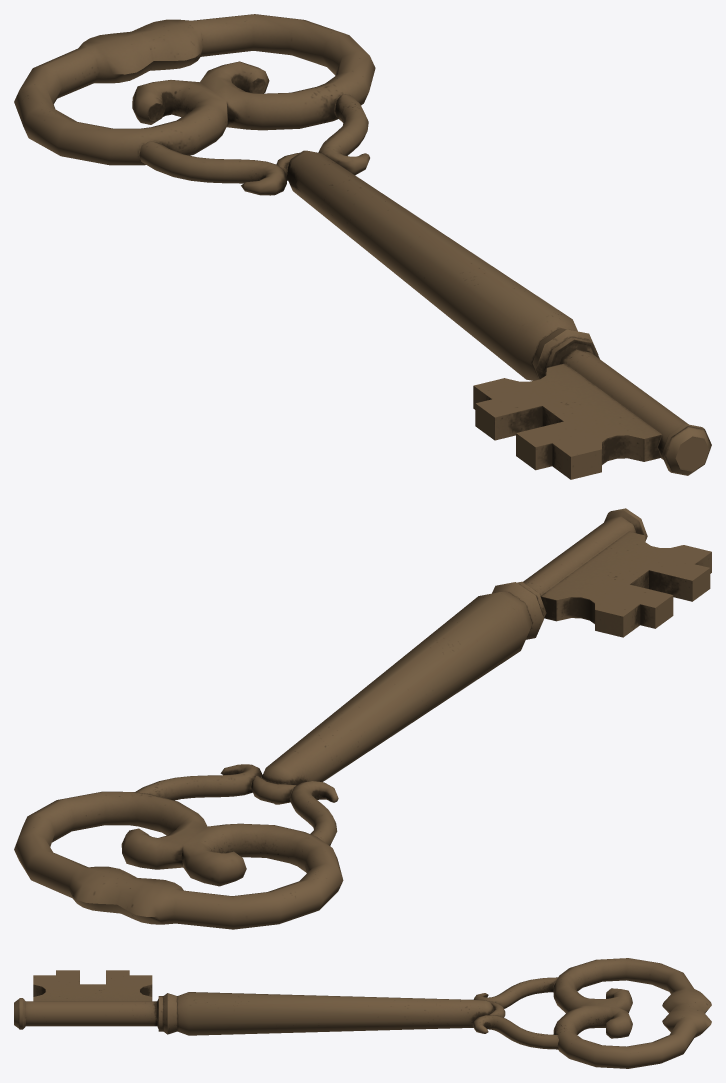
File: Key01.glb
3 renders of one model, top to bottom at view 1: azimuth 30°, elevation 25°; view 2: azimuth 150°, elevation 25°; view 3: azimuth 270°, elevation 25°, orthographic. The views are drawn at different scales.
Visible parts, largest first — view 1: Circle; view 2: Circle; view 3: Circle.
Boxes of the visible parts, left/top/right/bottom form: Circle: left=14, top=14, right=711, bottom=479; Circle: left=14, top=508, right=711, bottom=929; Circle: left=14, top=958, right=711, bottom=1068.
Bounding box in the file's own units: 0.087 × 0.0174 × 0.2602.
Materials: 1 (1 with a texture image).
